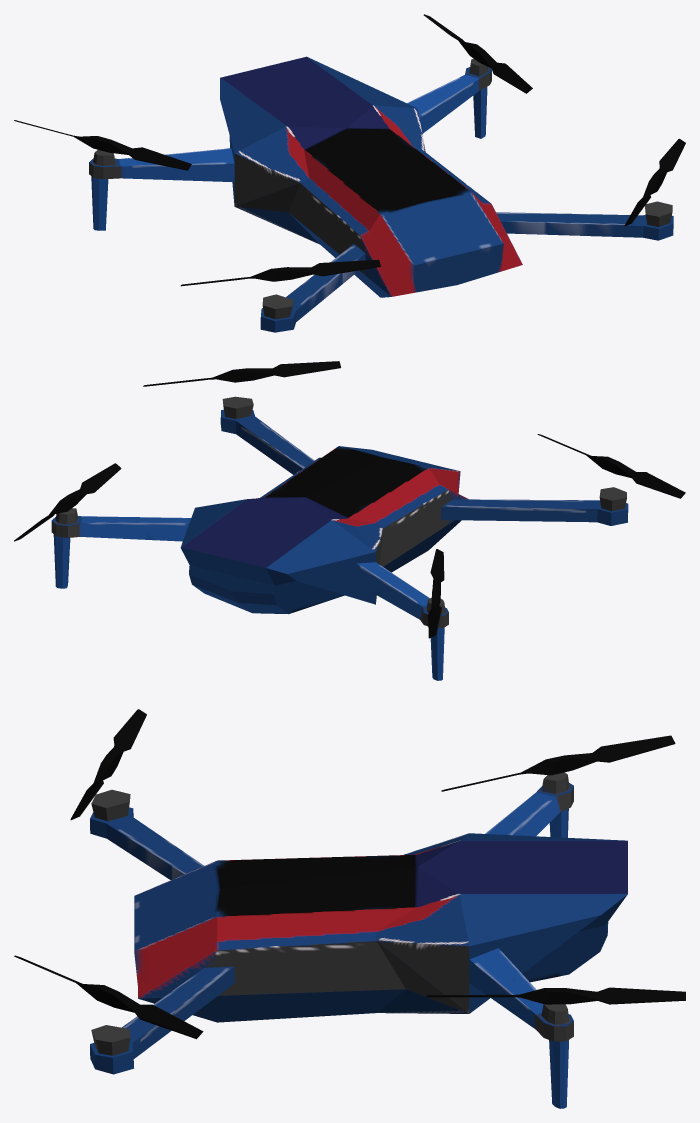
File: drone.fbx
3 views of the same model, one above another, from view 1: azimuth 30°, elevation 25°; view 2: azimuth 150°, elevation 25°; view 3: azimuth 270°, elevation 25° (orthographic). The views are drawn at different scales.
Parts seen in each view (by area): view 1: Drone; view 2: Drone; view 3: Drone.
Part boxes in pixels (x1,y1,x2,y2): Drone: (14, 14, 685, 332); Drone: (14, 361, 685, 680); Drone: (14, 709, 685, 1108).
Bounding box in the file's own units: 487 × 93.16 × 426.
1 material, 1 textured.
